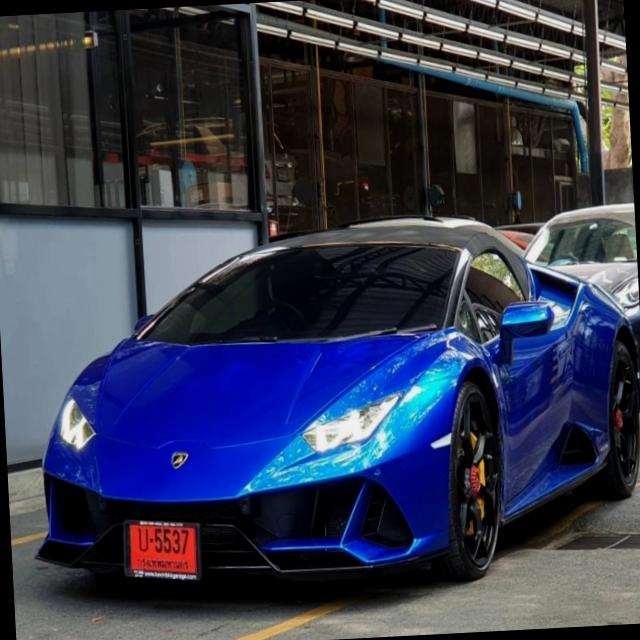license_plate: (121, 513, 204, 586)
